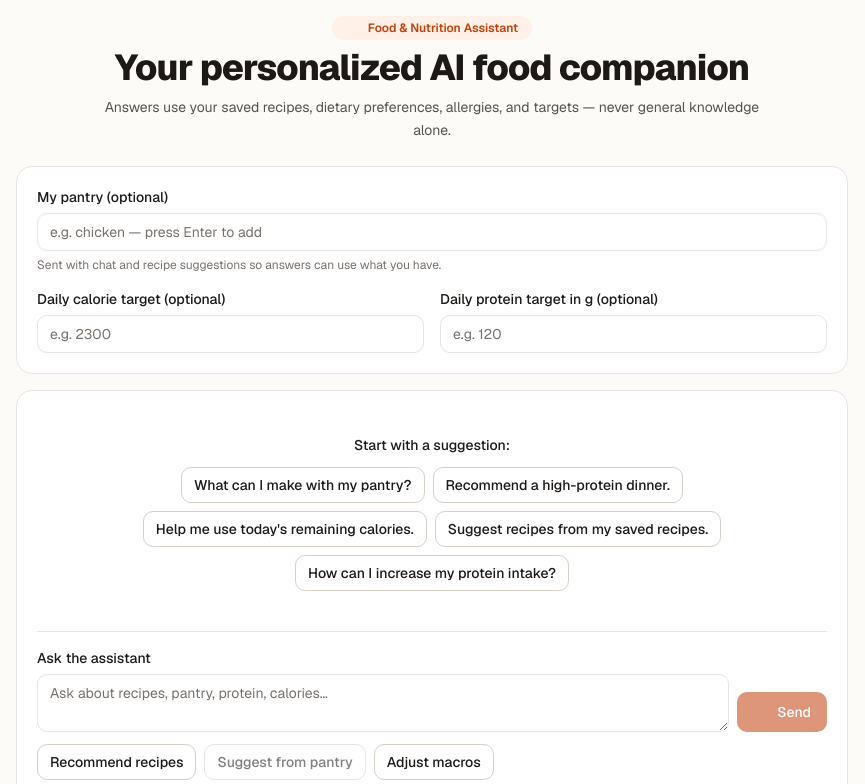
Scenario: AssistantPage — Food & Nutrition AI Assistant › clears the conversation and session storage via Clear chat
Type "Clear me please" into the text box labelled "Ask the assistant" at (383, 702), box x1=37 y1=674 x2=729 y2=732
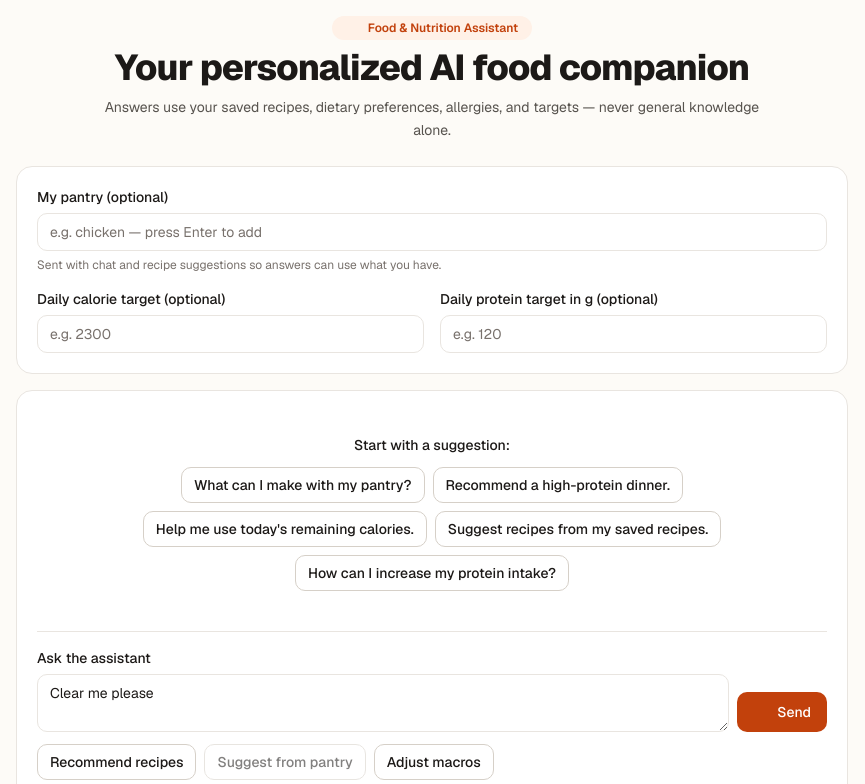
Click the button with aria-label "Send message" at (782, 712), box x1=737 y1=692 x2=827 y2=732
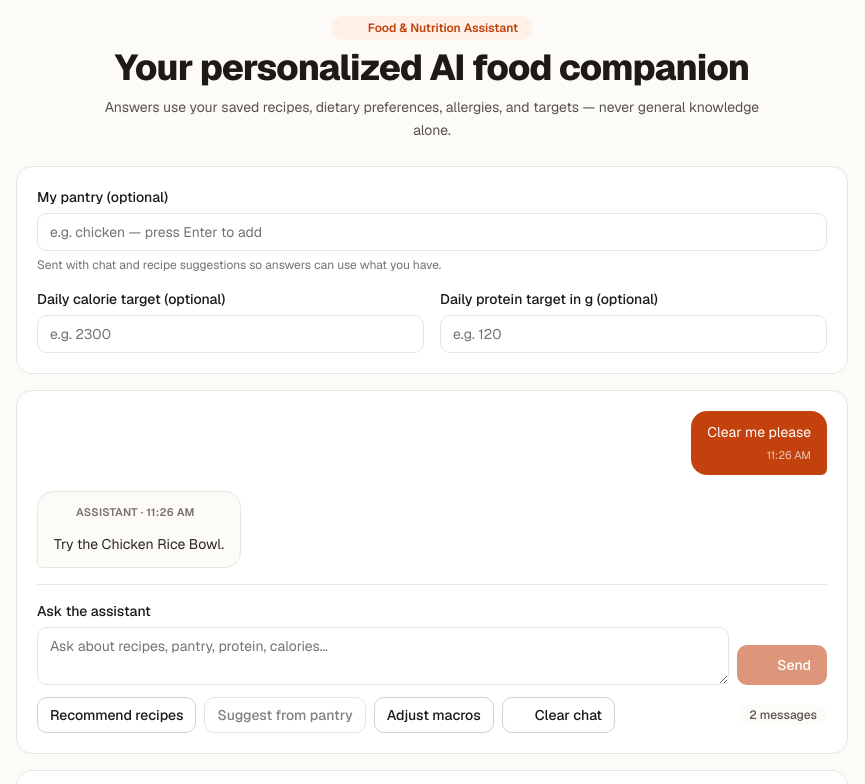
Check: the text "Try the Chicken Rice Bowl." is shown, box x1=54 y1=533 x2=224 y2=555
Click the button "Clear chat" at (558, 715), box x1=502 y1=697 x2=615 y2=733
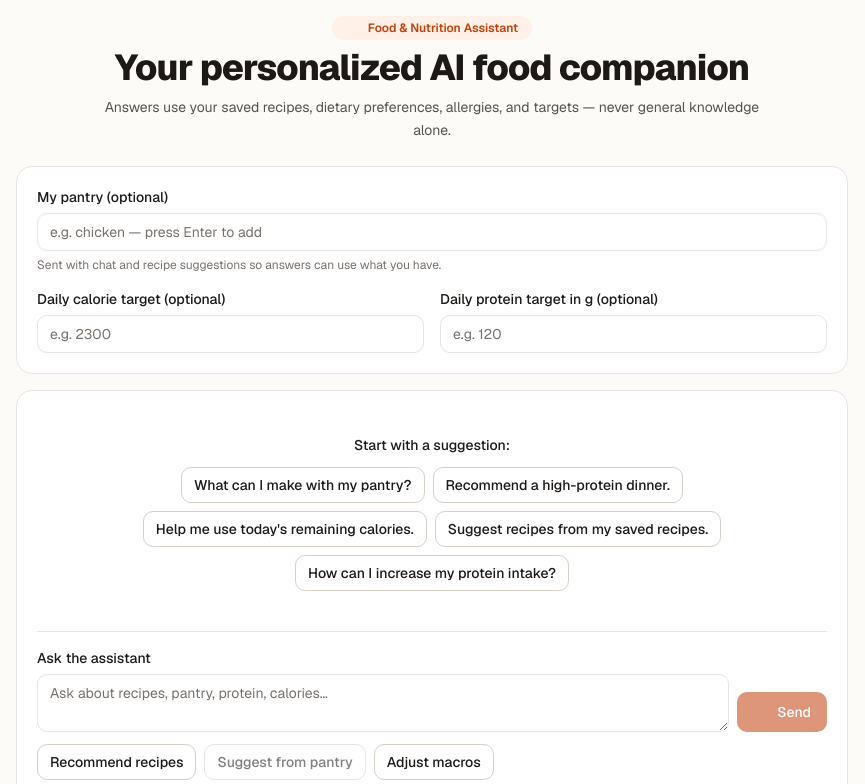
Check: the button "What can I make with my pantry?" is shown, box x1=181 y1=466 x2=424 y2=502
Check: the text "Clear me please" is gone
